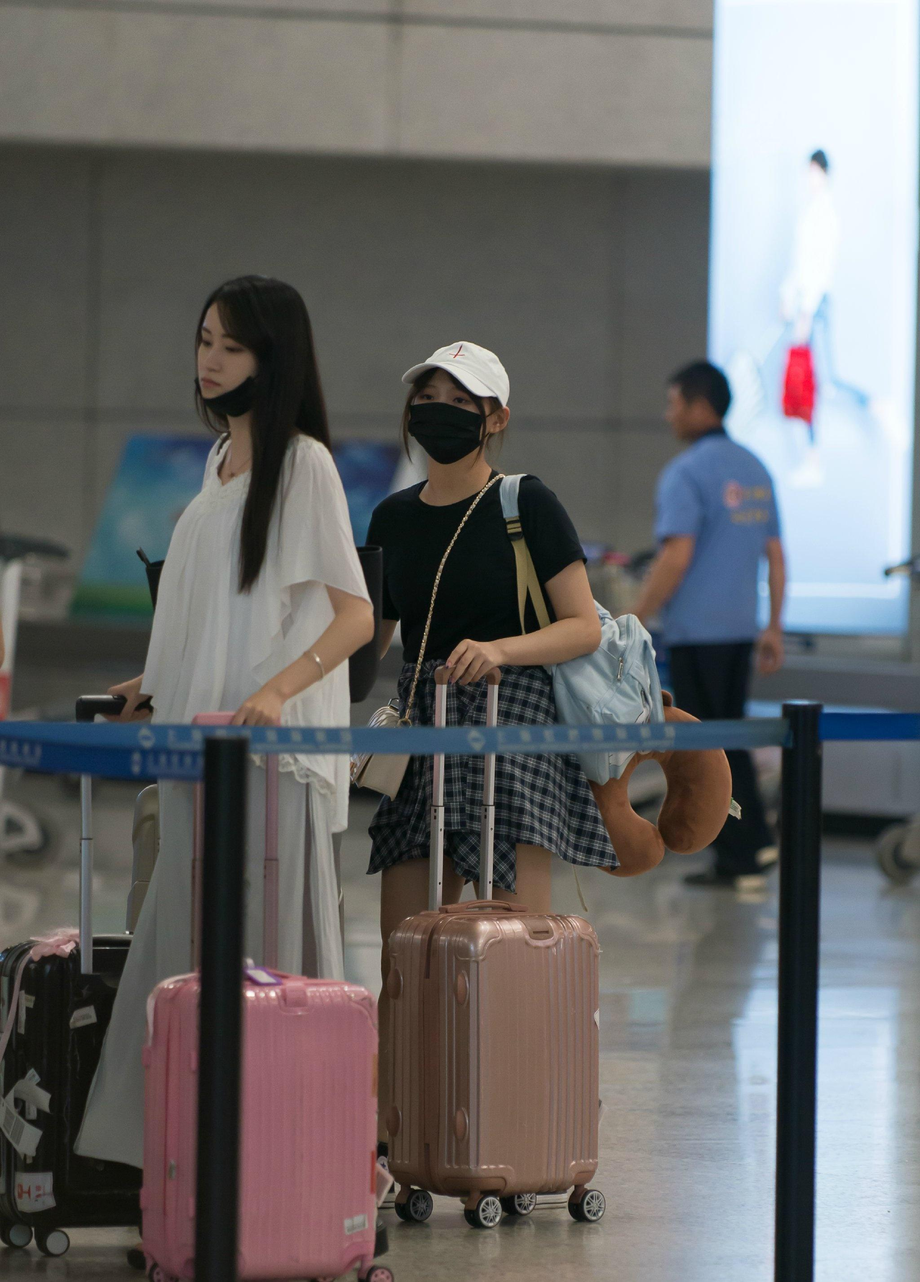OK: (402, 383, 488, 469)
WRONG: (192, 333, 262, 412)
